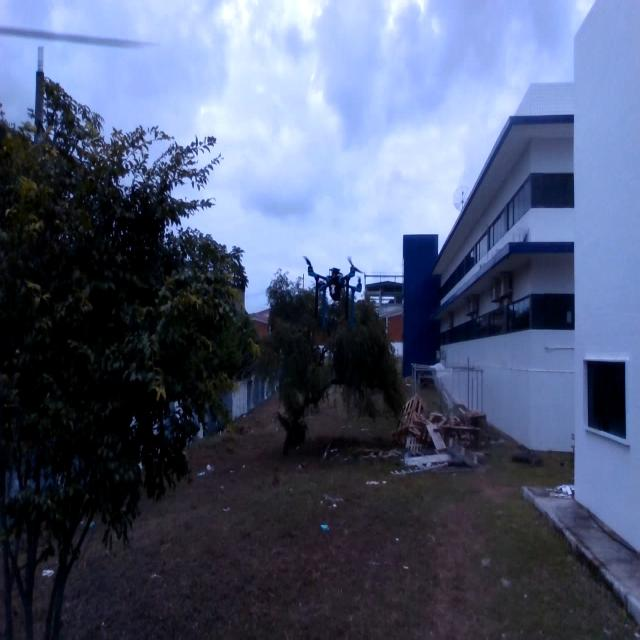-uav-: (297, 244, 369, 323)
